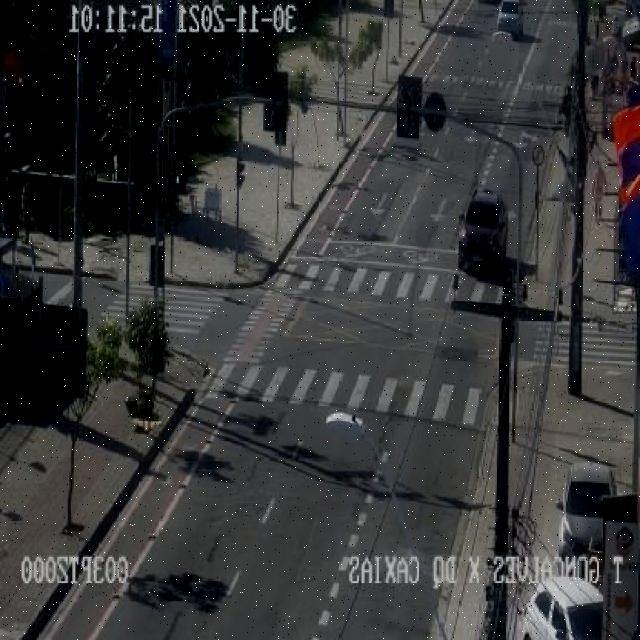Car: (558, 463, 618, 556), (520, 576, 604, 638), (457, 187, 509, 274), (496, 1, 523, 40)
